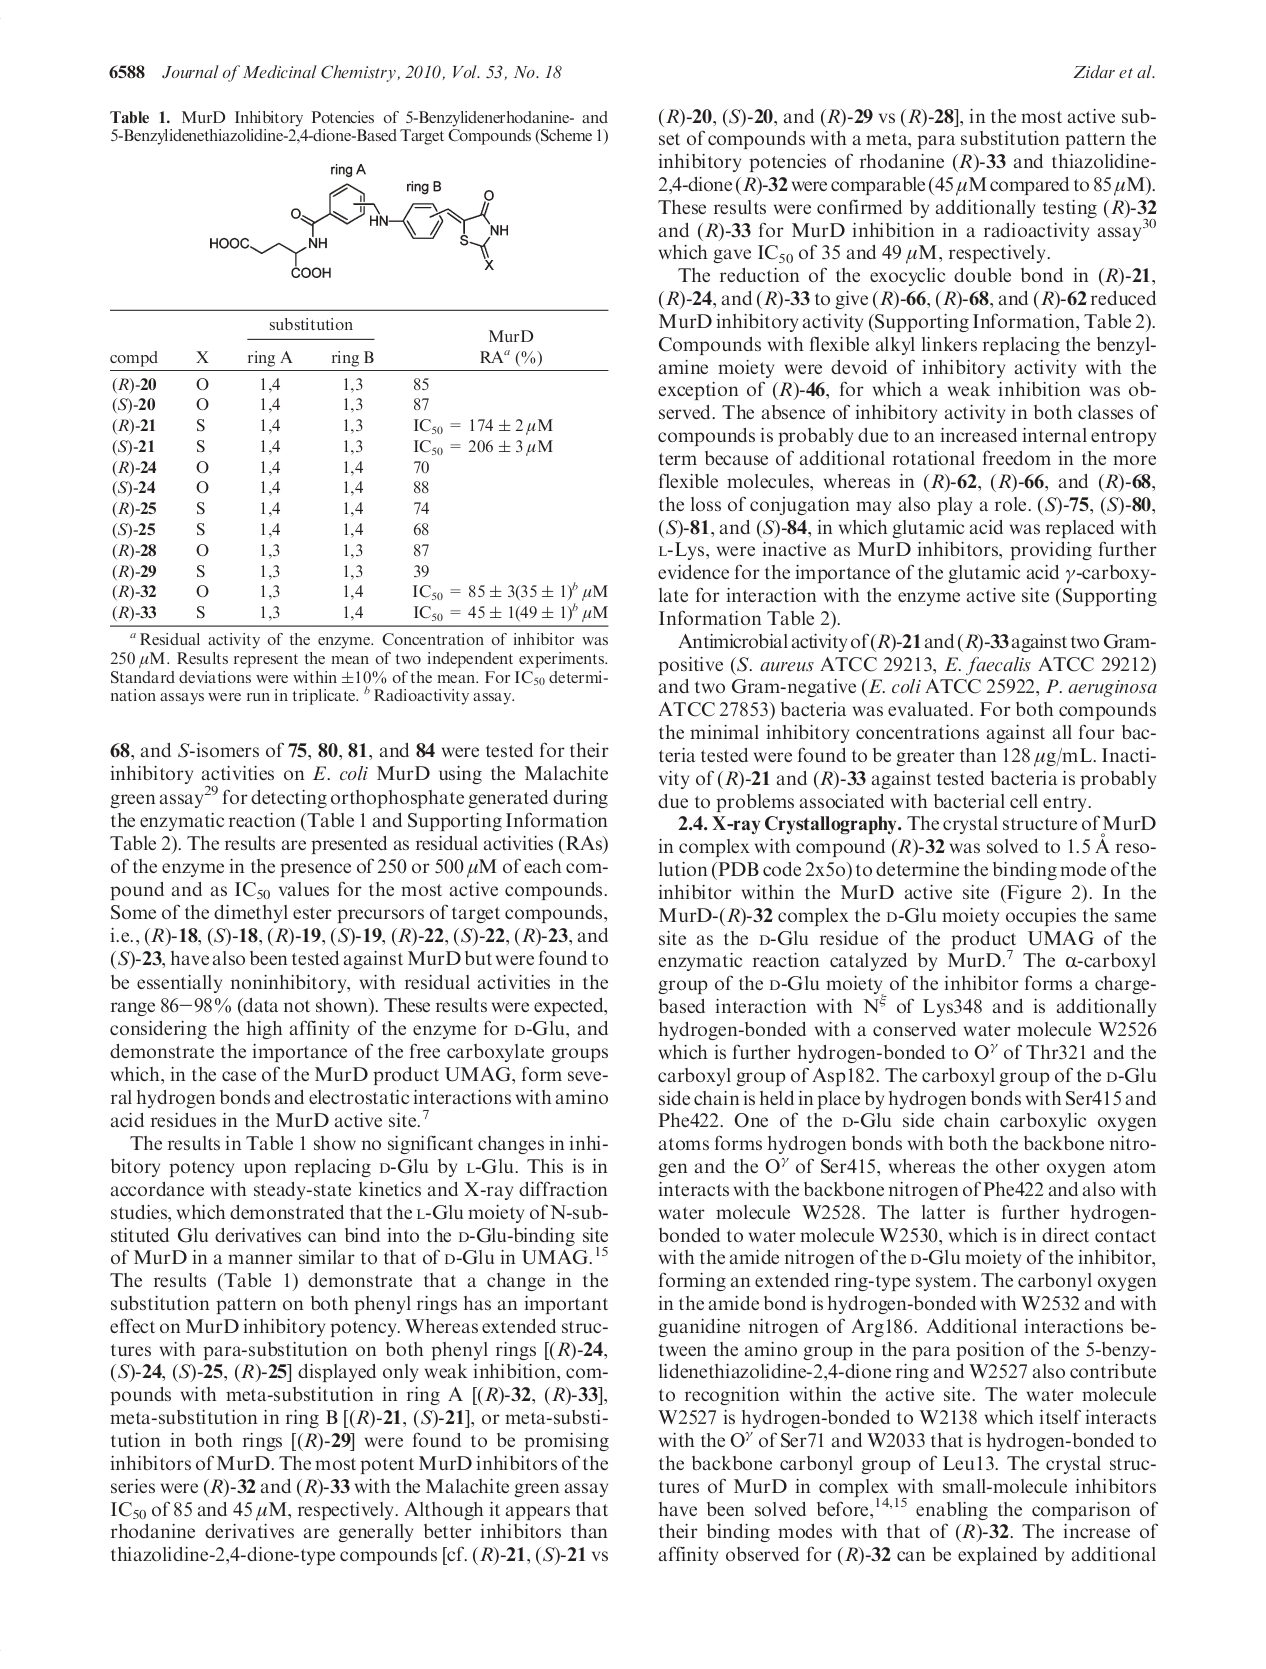exist_molecular: (207, 162, 511, 279)
